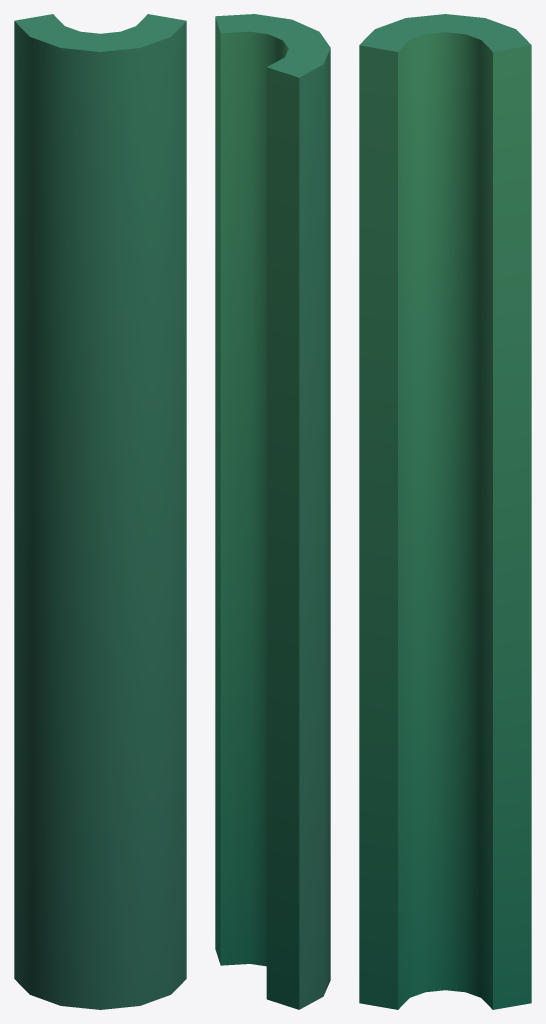
File: celery-stick.glb
The picture shows the model from 3 angles, left to right: view 1: azimuth 90°, elevation 25°; view 2: azimuth 210°, elevation 25°; view 3: azimuth 270°, elevation 25°; orthographic projection. The views are drawn at different scales.
Parts seen in each view (by area): view 1: celery-stick; view 2: celery-stick; view 3: celery-stick.
Boxes of the visible parts, x1=… form: celery-stick: x1=14, y1=14, x2=186, y2=1009; celery-stick: x1=215, y1=14, x2=330, y2=1009; celery-stick: x1=359, y1=14, x2=531, y2=1009.
Size of the model in its own units: 0.046 by 0.54 by 0.0882.
